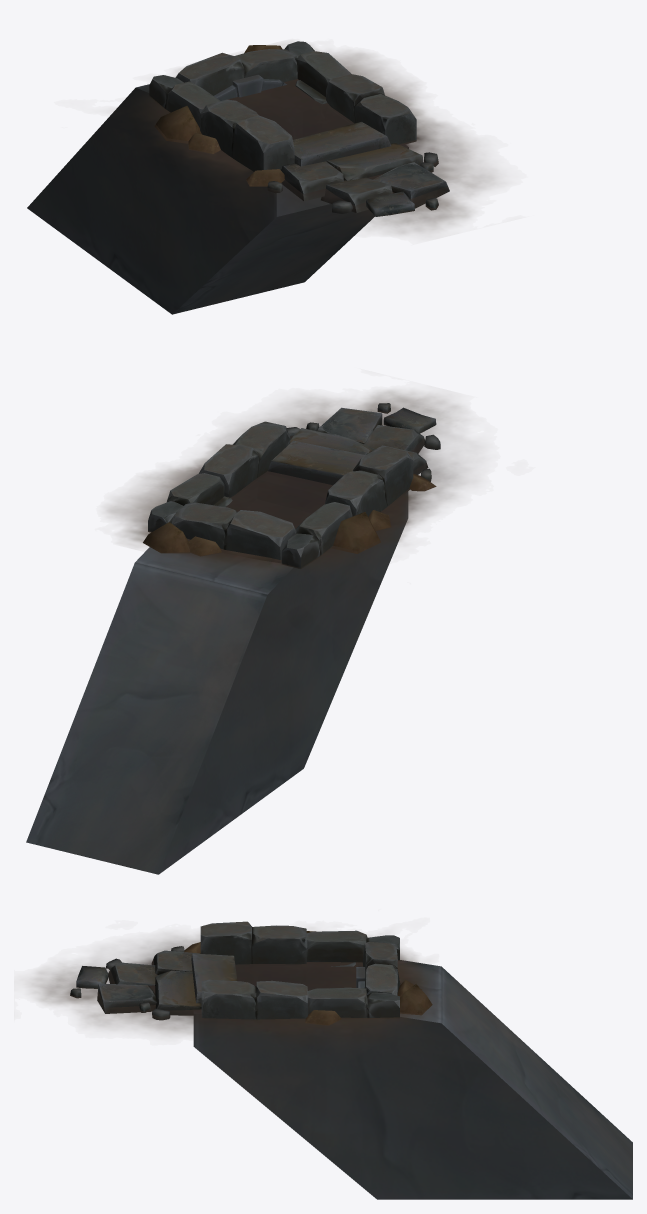
The picture shows the model from 3 angles, top to bottom: view 1: azimuth 30°, elevation 25°; view 2: azimuth 150°, elevation 25°; view 3: azimuth 270°, elevation 25°; orthographic projection. The views are drawn at different scales.
Parts seen in each view (by area): view 1: models_dungeon_entrance-1-wall, models_dungeon_entrance-0-model, models_dungeon_entrance-3-underlay; view 2: models_dungeon_entrance-1-wall, models_dungeon_entrance-0-model, models_dungeon_entrance-3-underlay; view 3: models_dungeon_entrance-1-wall, models_dungeon_entrance-0-model, models_dungeon_entrance-3-underlay.
Part boxes in pixels (x1,y1,x2,y2): models_dungeon_entrance-1-wall: [27, 74, 408, 314]; models_dungeon_entrance-0-model: [149, 41, 449, 216]; models_dungeon_entrance-3-underlay: [132, 48, 494, 233]; models_dungeon_entrance-1-wall: [26, 492, 408, 874]; models_dungeon_entrance-0-model: [143, 403, 440, 568]; models_dungeon_entrance-3-underlay: [107, 390, 467, 571]; models_dungeon_entrance-1-wall: [193, 960, 632, 1199]; models_dungeon_entrance-0-model: [70, 921, 432, 1025]; models_dungeon_entrance-3-underlay: [31, 935, 433, 1041].
Bounding box in the file's own units: 13.51 × 8.47 × 21.82.
3 materials, 3 textured.
